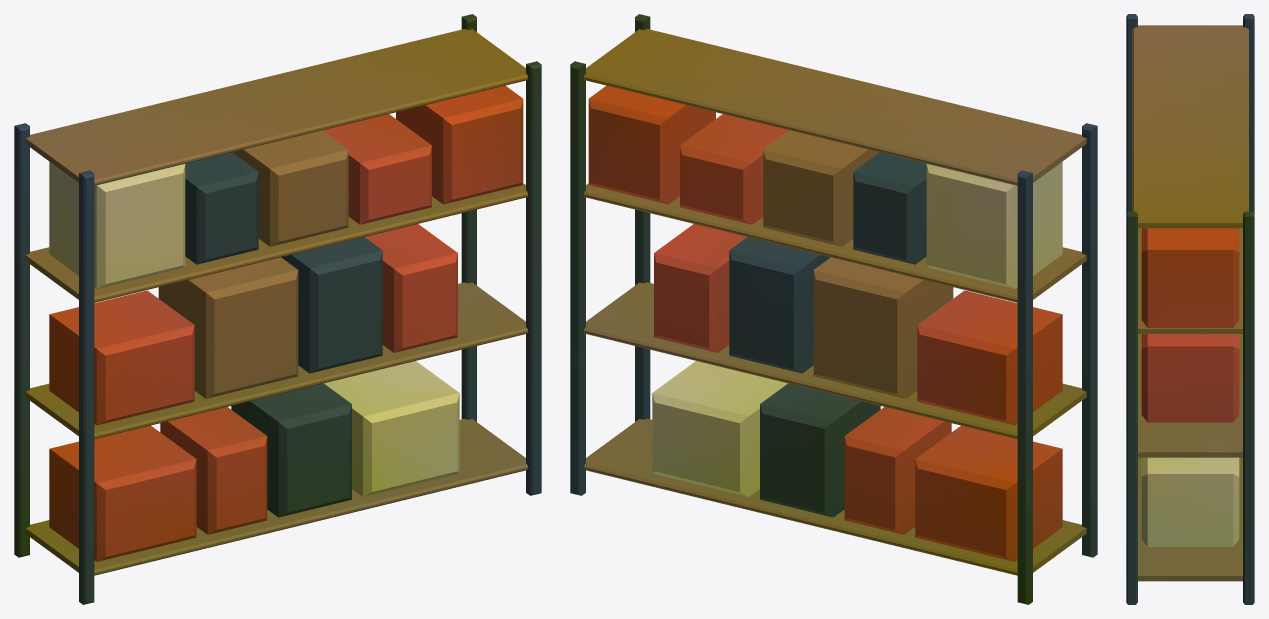
The model's file is GS_StorageShelf.glb.
The picture shows the model from 3 angles, left to right: view 1: azimuth 30°, elevation 25°; view 2: azimuth 150°, elevation 25°; view 3: azimuth 270°, elevation 25°; orthographic projection. The views are drawn at different scales.
Parts seen in each view (by area): view 1: GS_StorageShelf; view 2: GS_StorageShelf; view 3: GS_StorageShelf.
Boxes of the visible parts, <box> form: GS_StorageShelf: <box>14,14,541,604</box>; GS_StorageShelf: <box>570,14,1097,604</box>; GS_StorageShelf: <box>1126,14,1254,604</box>.
Bounding box in the file's own units: 2.46 × 2.2 × 0.66.
